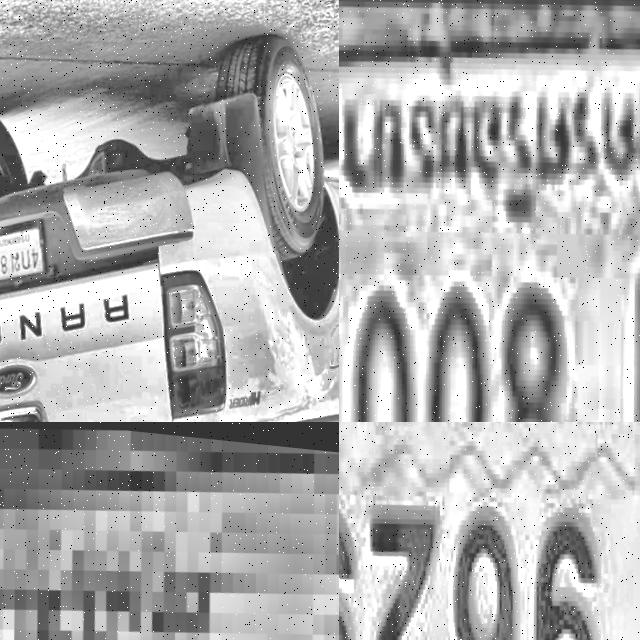license-plate: (339, 0, 640, 422), (0, 422, 339, 640), (339, 422, 640, 640), (0, 208, 56, 292)
